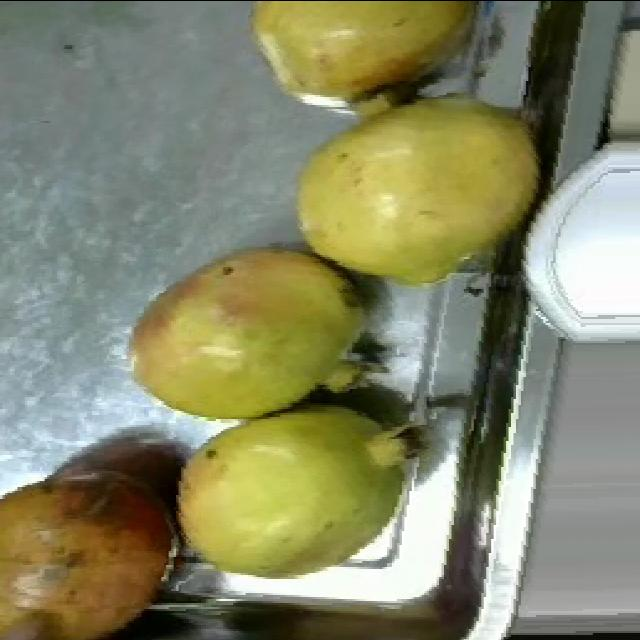fruit: (99, 218, 372, 444), (0, 440, 211, 638)
